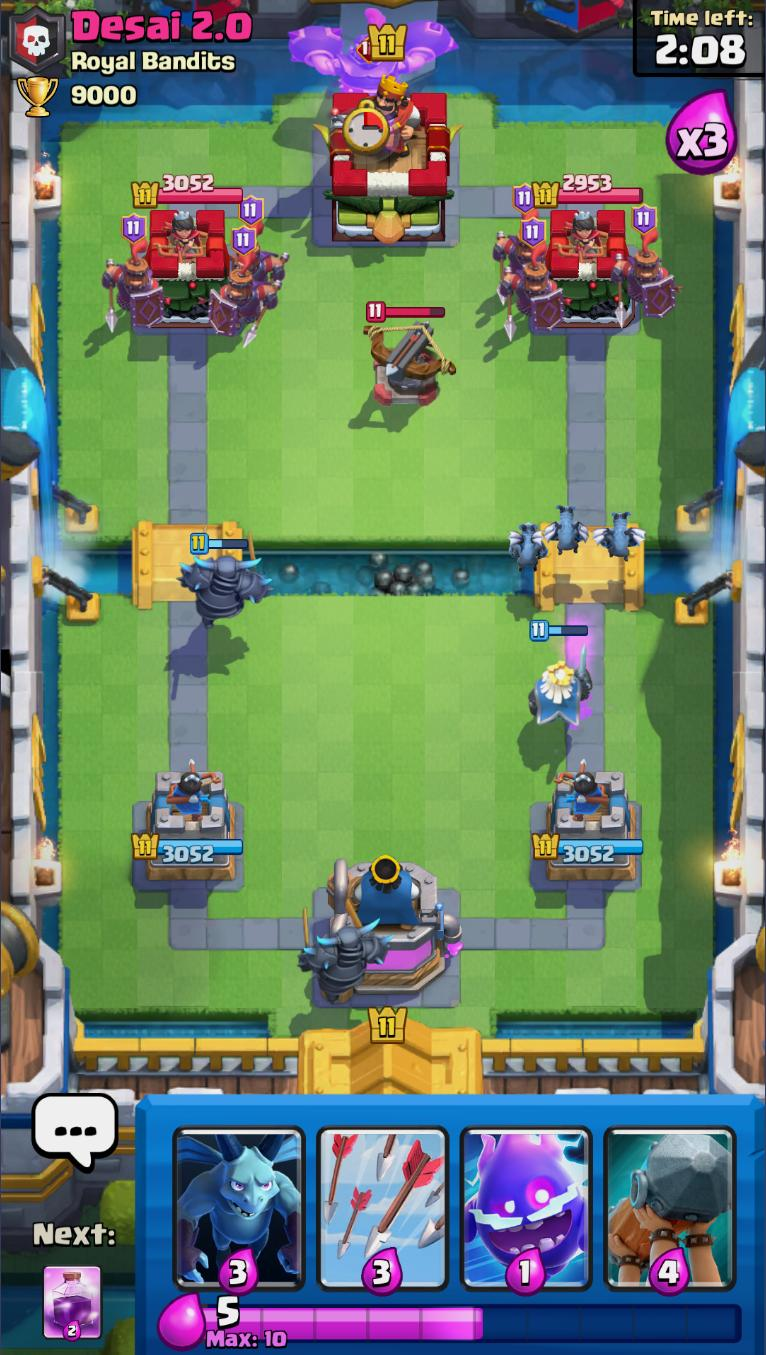ArrowDeck: (311, 1099, 454, 1296)
BattleRamDeck: (599, 1094, 741, 1296)
ElectroSpiritDeck: (456, 1096, 597, 1294)
Elixir: (201, 1296, 741, 1351)
EnemyTower: (136, 211, 234, 331), (538, 209, 632, 333), (129, 178, 239, 212), (529, 178, 640, 211)
EvoMegaKnight: (289, 6, 461, 96)
EvoRoyalRecruit: (205, 225, 277, 351), (502, 216, 567, 341), (615, 203, 678, 329), (102, 212, 165, 331), (228, 196, 289, 291), (493, 182, 548, 277)
KingTower: (311, 79, 459, 246)
MinionsDeck: (164, 1096, 313, 1294)
MyKingTower: (317, 860, 460, 1007)
MyMinion: (544, 503, 594, 559), (593, 511, 644, 564), (506, 521, 550, 573)
MyPekka: (294, 899, 391, 1003), (174, 531, 271, 633)
MyPrincessTower: (129, 771, 240, 889), (531, 773, 639, 889)
MyPrincessTowerHP: (126, 836, 241, 867), (531, 835, 640, 866)
MyRoyaleGhost: (524, 617, 593, 729)
PrincessTower: (550, 211, 605, 264), (149, 213, 204, 264)
RageNext: (41, 1263, 103, 1343)
XBow: (354, 303, 457, 409)
